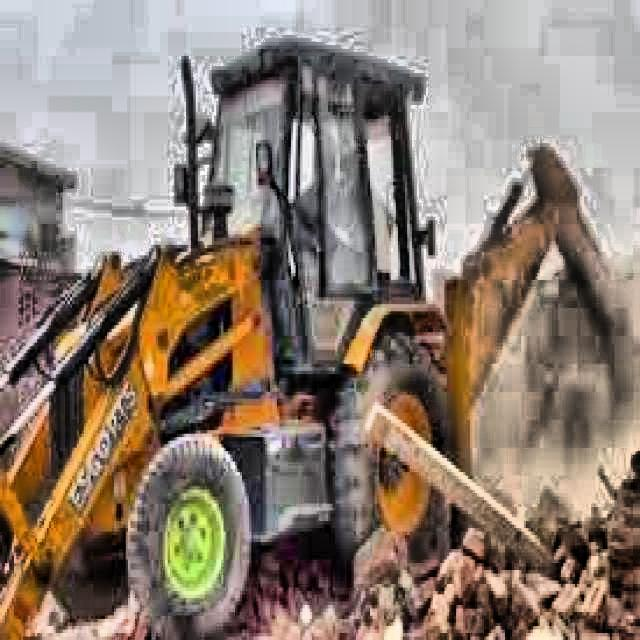bull_dozer/loader/grader: (0, 29, 640, 640)
person: (307, 126, 346, 224)
